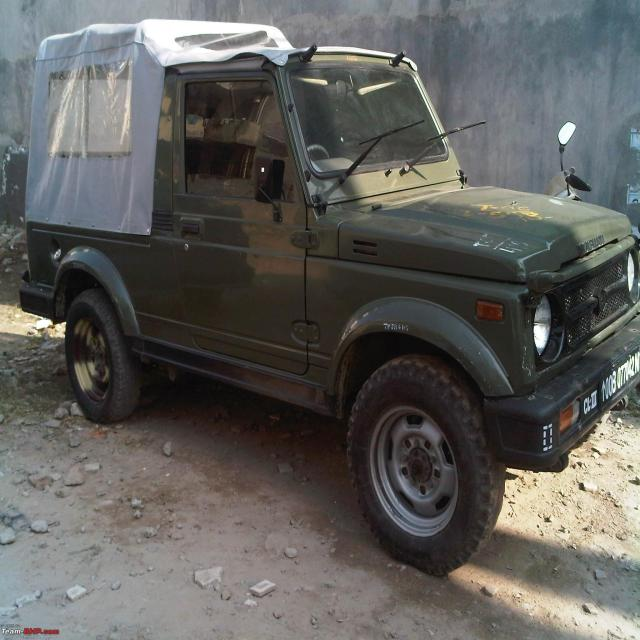military-plate: (600, 346, 640, 406)
